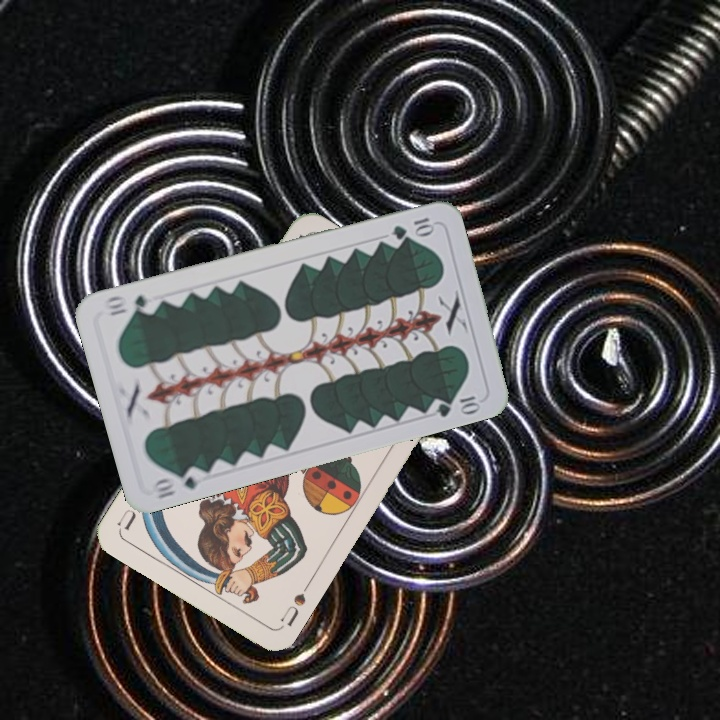G10: (148, 463, 207, 502), (388, 213, 437, 242)
SU: (276, 589, 309, 629)
